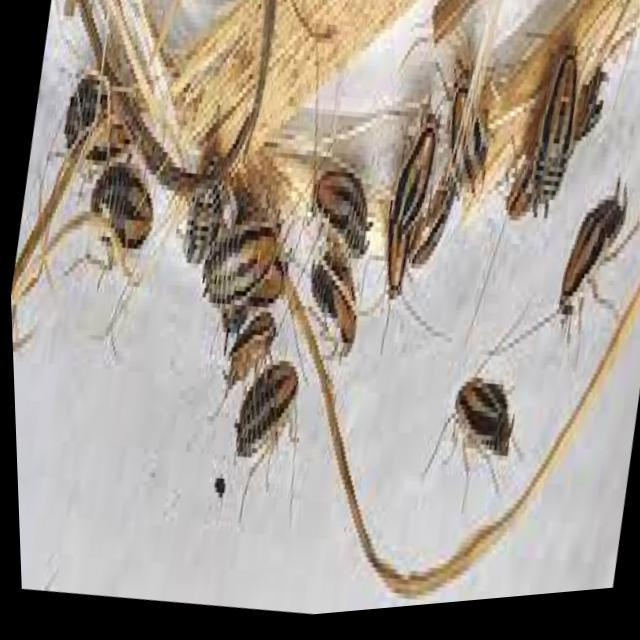Cockroach: (404, 336, 539, 539), (205, 331, 322, 555), (532, 167, 640, 408), (52, 127, 174, 325), (509, 42, 599, 252), (287, 133, 388, 301), (182, 196, 289, 336), (284, 240, 380, 395)
